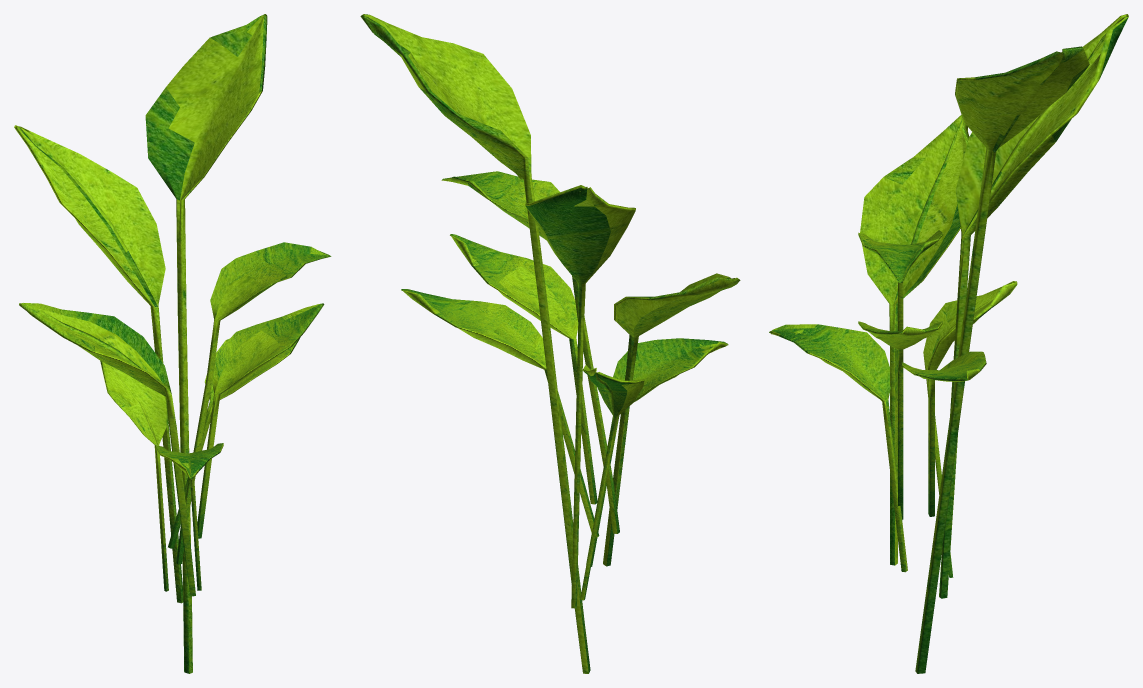
Rendered from leaf2.obj.
The picture shows the model from 3 angles, left to right: view 1: azimuth 30°, elevation 25°; view 2: azimuth 150°, elevation 25°; view 3: azimuth 270°, elevation 25°; orthographic projection. The views are drawn at different scales.
Parts seen in each view (by area): view 1: polySurface243; view 2: polySurface243; view 3: polySurface243.
Boxes of the visible parts, bbox=[...] form: polySurface243: bbox=[14, 14, 331, 673]; polySurface243: bbox=[360, 14, 740, 673]; polySurface243: bbox=[769, 14, 1128, 673].
Size of the model in its own units: 1.92 by 3.63 by 1.69.
Materials: 1 (1 with a texture image).
